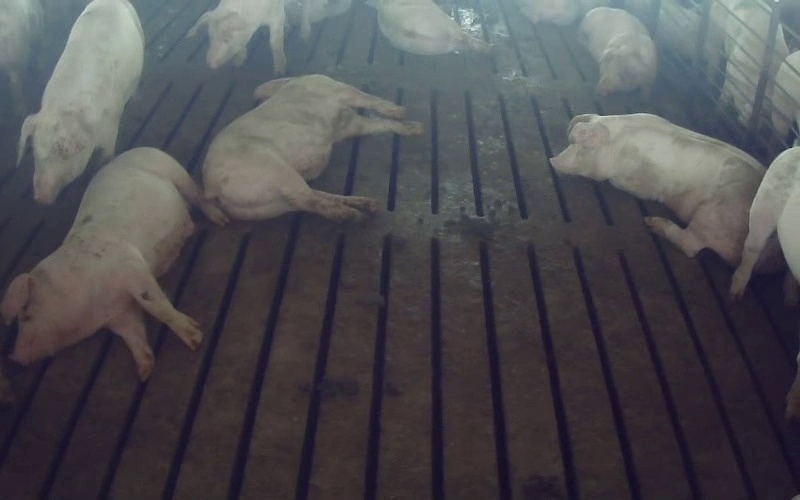pig: (0, 148, 227, 379), (550, 114, 764, 264), (203, 75, 422, 221), (188, 0, 284, 73), (578, 7, 656, 95), (376, 0, 489, 54)
